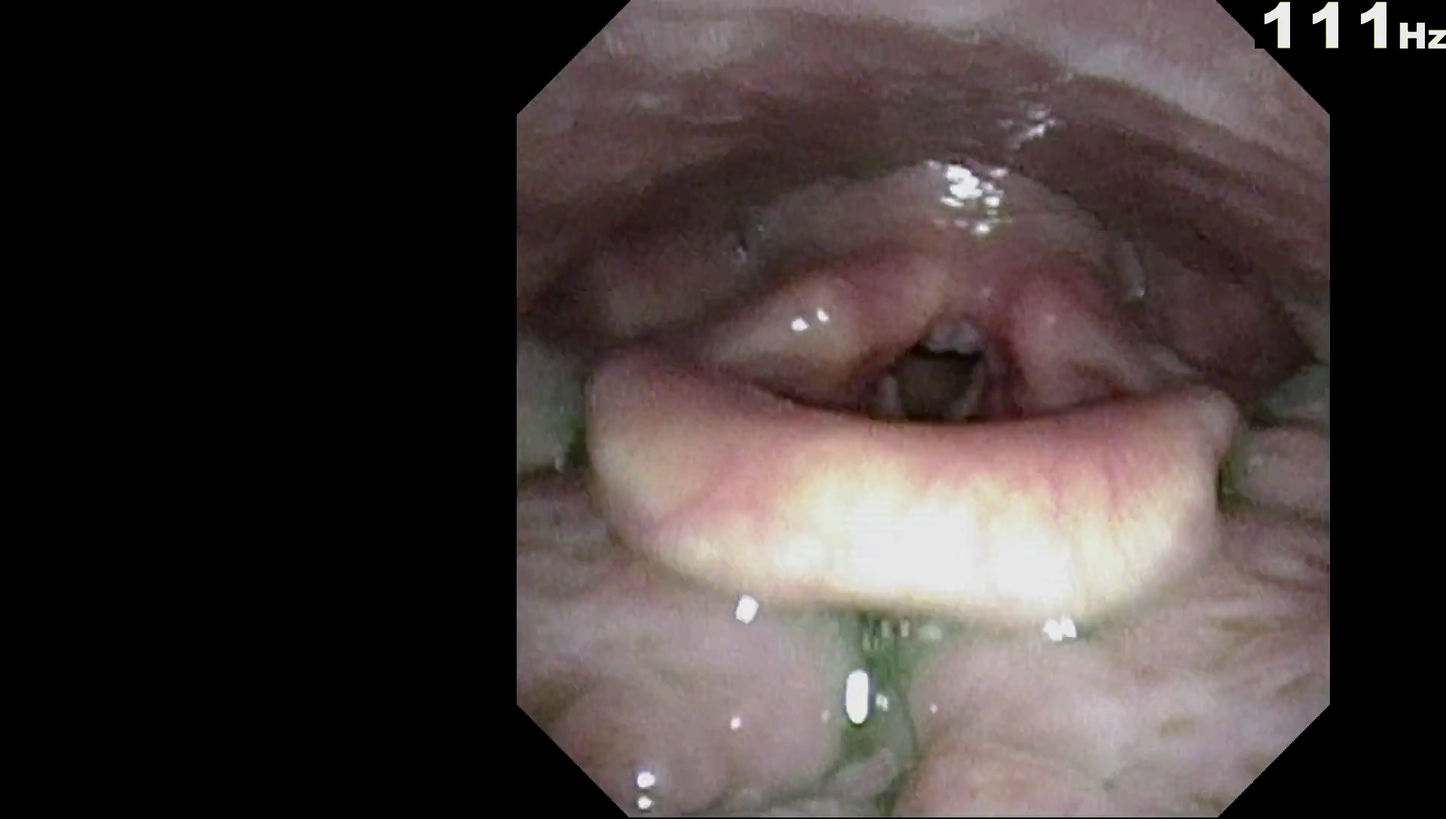trachea: (846, 325, 1001, 443)
